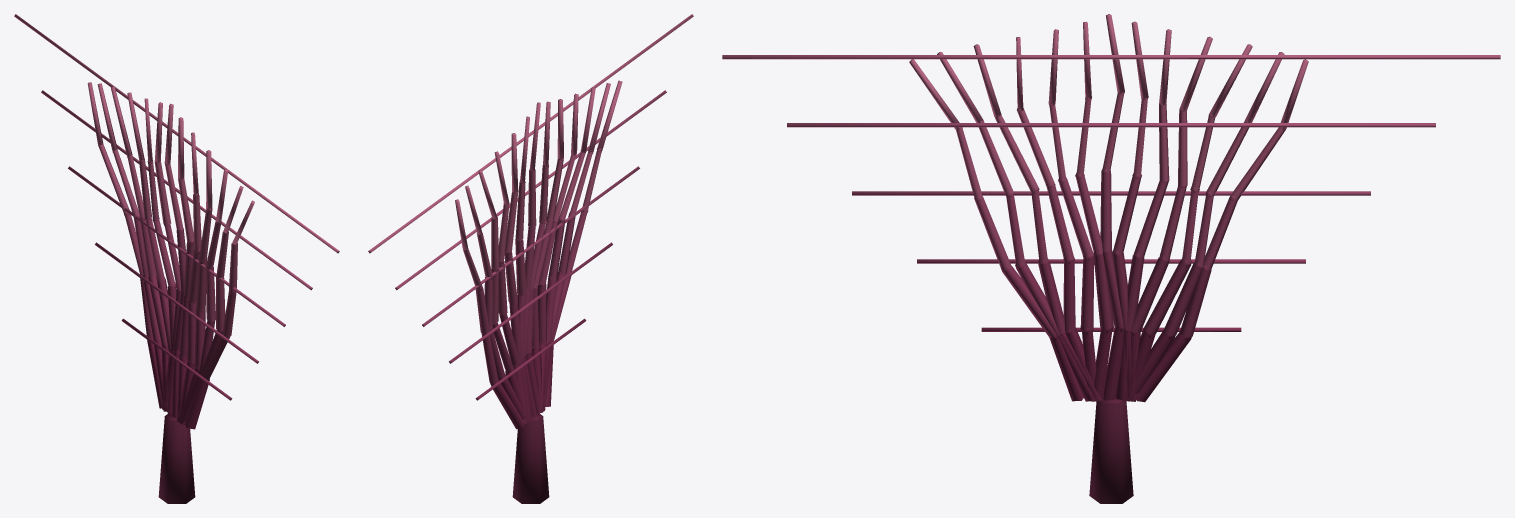
The model's file is coral_fan.glb.
3 renders of one model, left to right at view 1: azimuth 30°, elevation 25°; view 2: azimuth 150°, elevation 25°; view 3: azimuth 270°, elevation 25°, orthographic. The views are drawn at different scales.
Visible parts, largest first — view 1: coral_fan; view 2: coral_fan; view 3: coral_fan.
Boxes of the visible parts, x1,y1,x2,y2 form: coral_fan: [14, 14, 339, 503]; coral_fan: [368, 14, 693, 503]; coral_fan: [722, 14, 1500, 503].
Bounding box in the file's own units: 0.0779 × 1.07 × 1.58.
